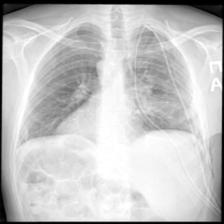tuberculosis: (11, 19, 206, 200)
